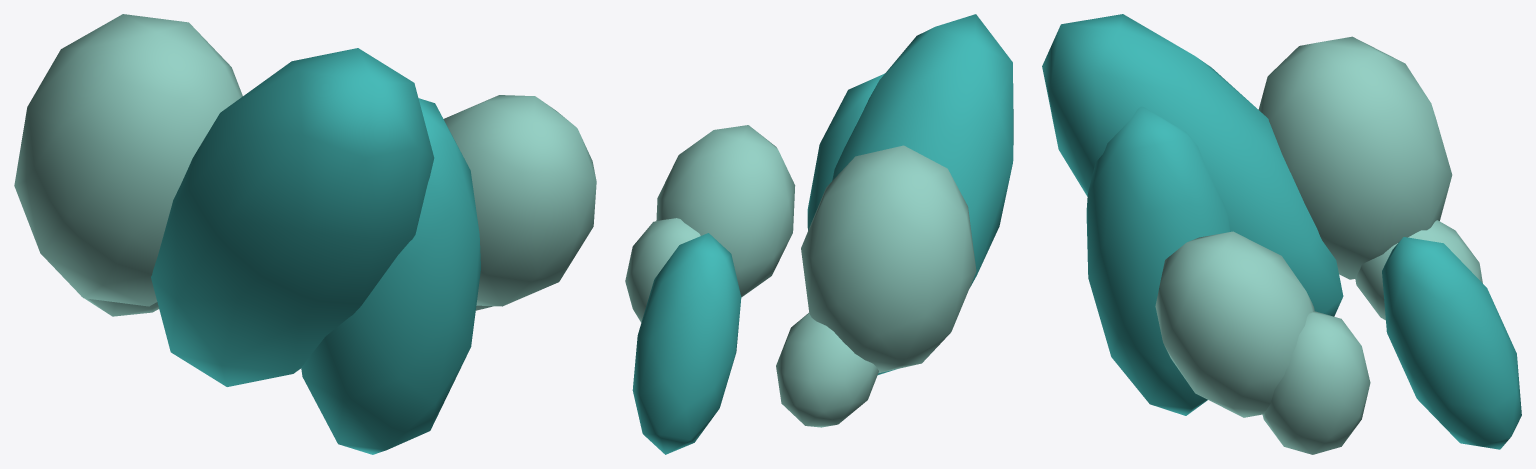
Rendered from dynamic-focus.glb.
3 renders of one model, left to right at view 1: azimuth 30°, elevation 25°; view 2: azimuth 150°, elevation 25°; view 3: azimuth 270°, elevation 25°, orthographic. The views are drawn at different scales.
Visible parts, largest first — view 1: crystal_5, crystal_2, crystal_1, crystal_4, crystal_6; view 2: crystal_2, crystal_5, crystal_3, crystal_4, crystal_6, crystal_0, crystal_1; view 3: crystal_5, crystal_2, crystal_1, crystal_4, crystal_3, crystal_0, crystal_6.
Boxes of the visible parts, x1,y1,x2,y2 form: crystal_5: [151, 48, 434, 386]; crystal_2: [14, 14, 242, 306]; crystal_1: [301, 98, 480, 454]; crystal_4: [443, 95, 596, 306]; crystal_6: [81, 296, 158, 316]; crystal_2: [801, 145, 976, 373]; crystal_5: [832, 14, 1013, 374]; crystal_3: [632, 233, 741, 454]; crystal_4: [656, 125, 795, 297]; crystal_6: [776, 313, 878, 427]; crystal_0: [625, 218, 700, 322]; crystal_1: [807, 73, 884, 230]; crystal_5: [1042, 14, 1343, 316]; crystal_2: [1258, 36, 1452, 279]; crystal_1: [1086, 106, 1229, 415]; crystal_4: [1155, 231, 1314, 417]; crystal_3: [1382, 237, 1521, 449]; crystal_0: [1262, 311, 1370, 454]; crystal_6: [1355, 220, 1482, 320].
Size of what is drawn, in the model's own units: 2.47 by 2.21 by 2.62.
